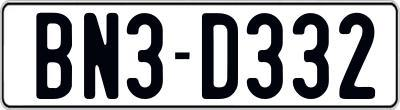2: (338, 11, 379, 103)
3: (124, 12, 165, 100), (290, 13, 330, 101), (245, 12, 282, 99)
B: (35, 13, 71, 102)
D: (201, 13, 237, 104)
N: (82, 12, 116, 104)
